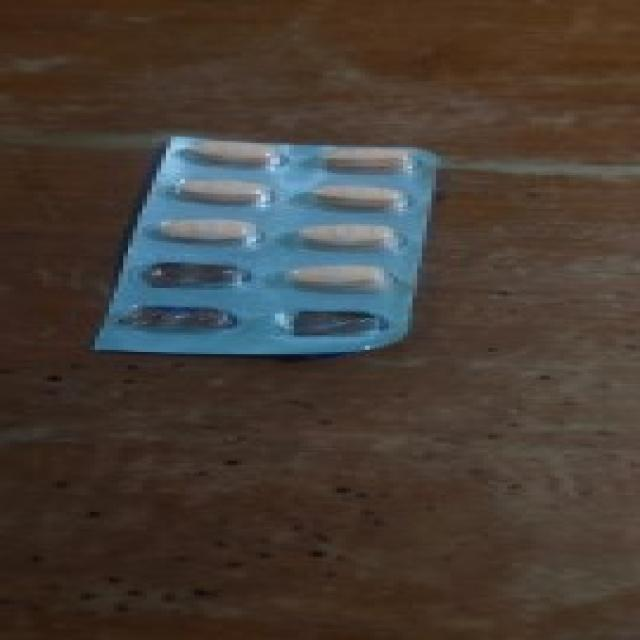Cacat: (101, 131, 441, 352)
Kemasan: (107, 302, 251, 338), (136, 257, 260, 297), (275, 306, 396, 338)
